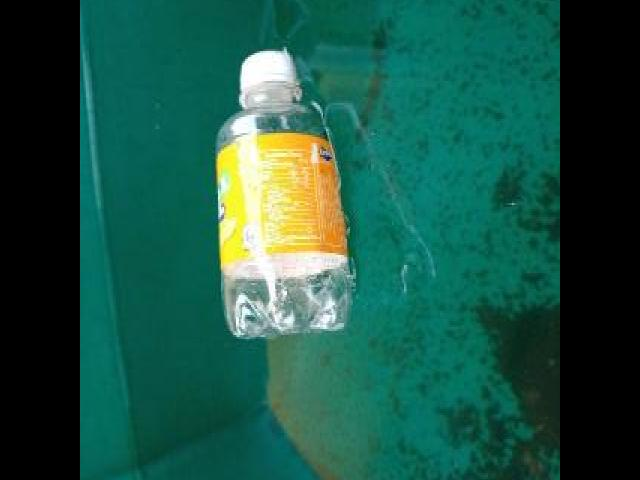Bottle: (215, 45, 356, 337)
